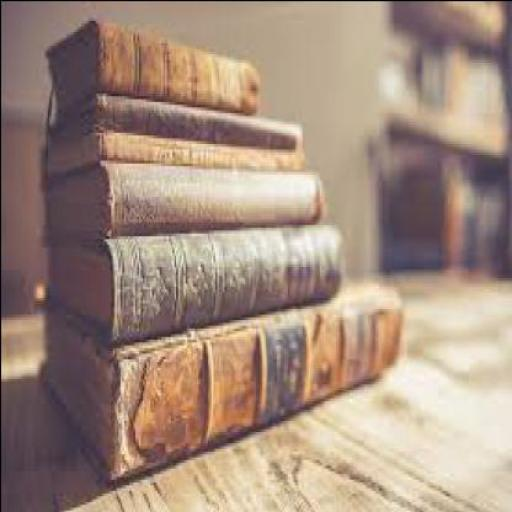paper: (39, 280, 404, 487), (48, 218, 341, 342), (45, 157, 328, 241), (46, 14, 263, 118), (48, 87, 305, 146), (44, 132, 308, 171)
